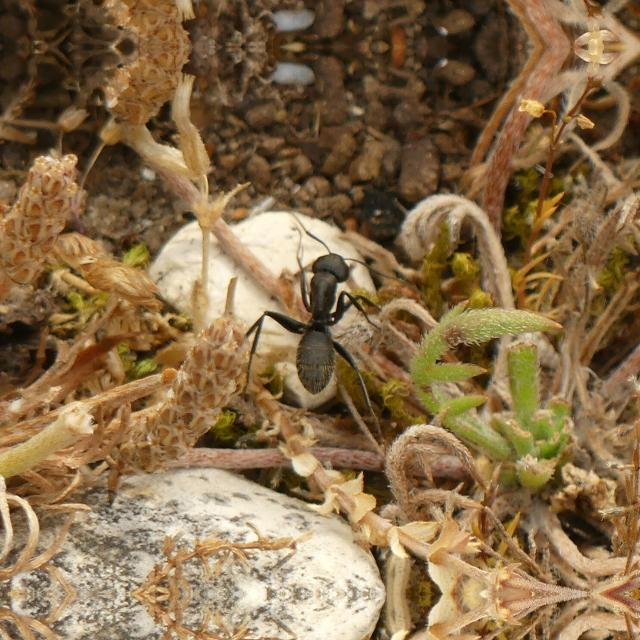Camponotus: (248, 228, 388, 418)
